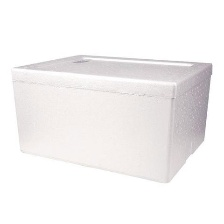foam_box: (6, 49, 216, 186)
